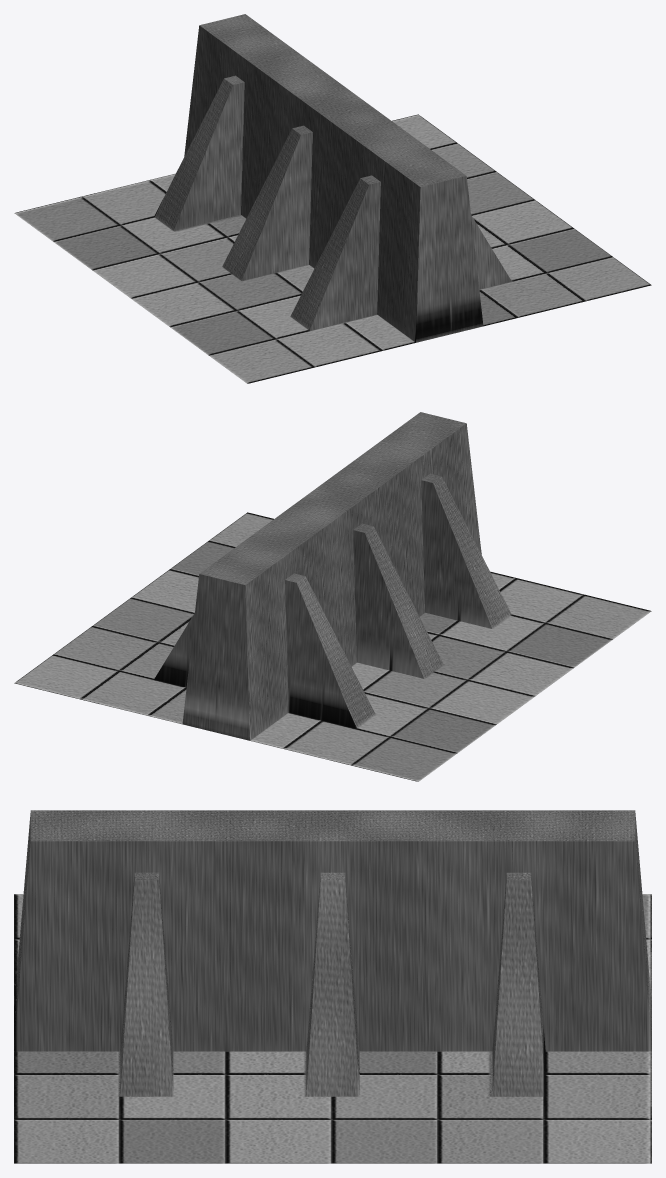
File: Tile05_Wall.fbx
The picture shows the model from 3 angles, top to bottom: view 1: azimuth 30°, elevation 25°; view 2: azimuth 150°, elevation 25°; view 3: azimuth 270°, elevation 25°; orthographic projection. The views are drawn at different scales.
Parts seen in each view (by area): view 1: Tile05_Wall; view 2: Tile05_Wall; view 3: Tile05_Wall.
Boxes of the visible parts, x1,y1,x2,y2 form: Tile05_Wall: [14, 14, 651, 383]; Tile05_Wall: [14, 412, 651, 781]; Tile05_Wall: [14, 810, 651, 1163].
Bounding box in the file's own units: 1 × 0.3509 × 1.
